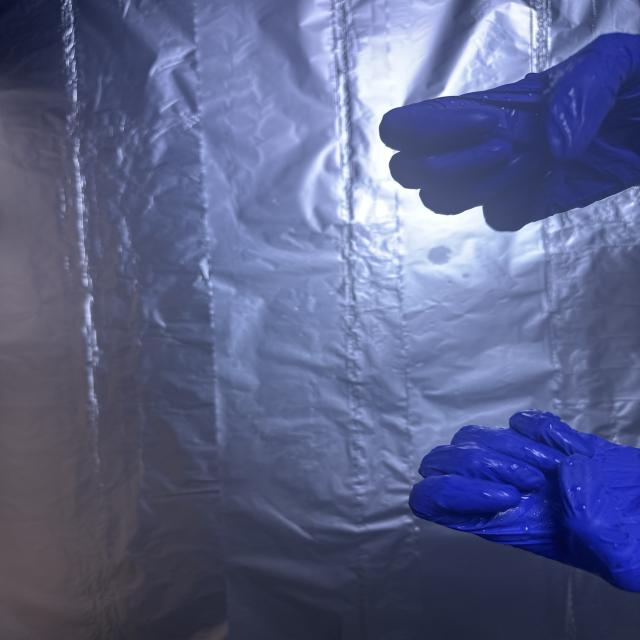gloves_contaminated: (380, 33, 640, 231), (410, 410, 640, 591)
